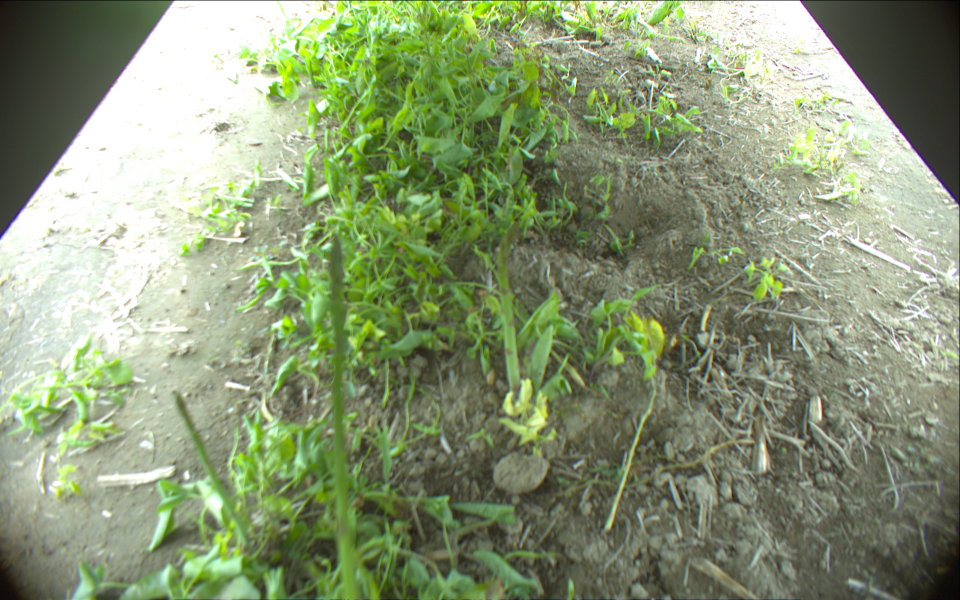aspa: (173, 393, 255, 547), (329, 232, 360, 600), (496, 236, 517, 398)
